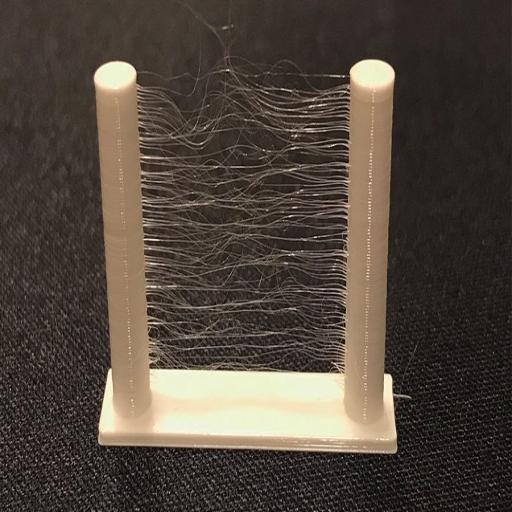stringing: (140, 4, 350, 381)
